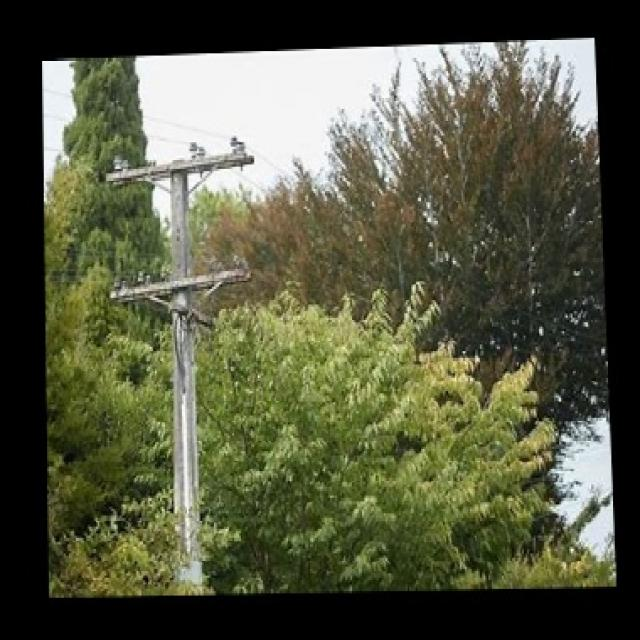utility poles: (86, 106, 275, 597)
